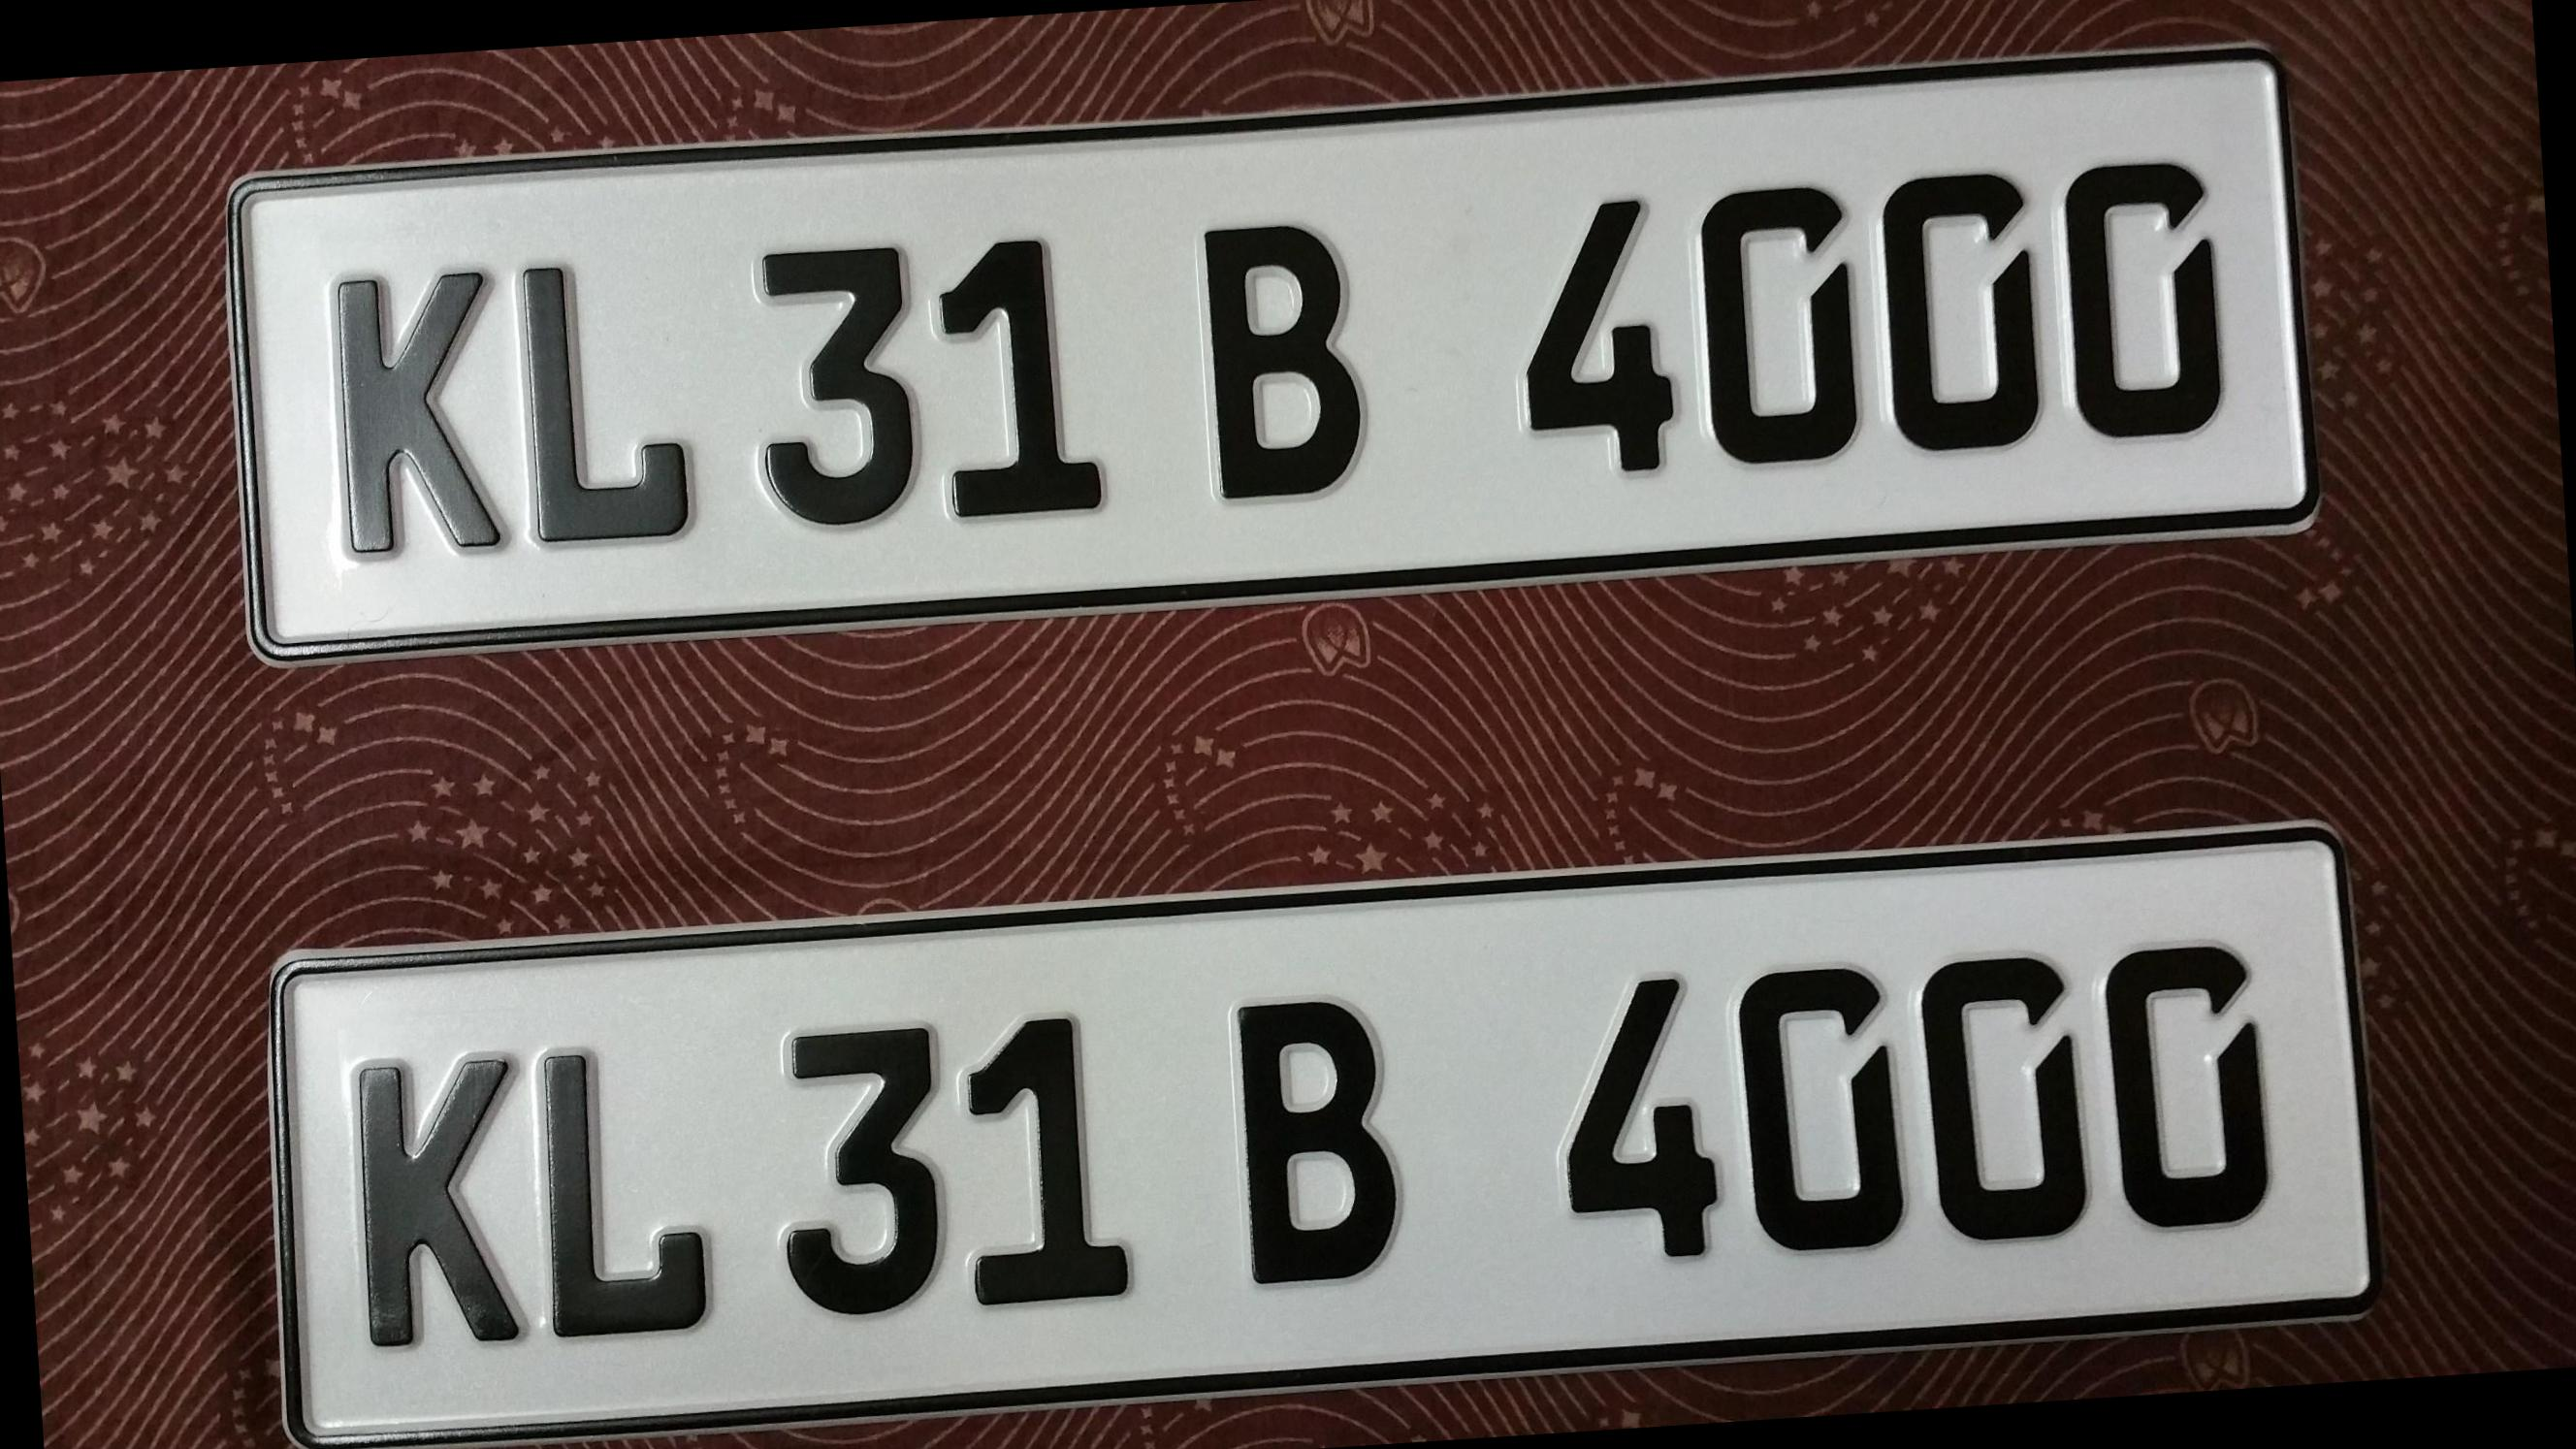plate: (249, 51, 2338, 660)
